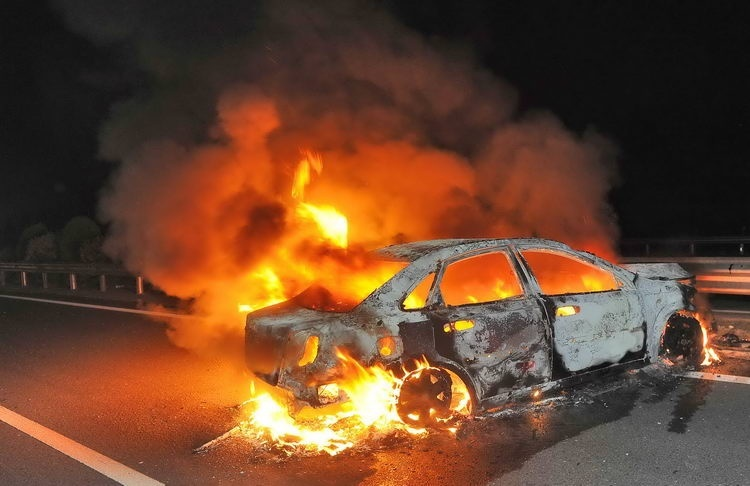fire: (229, 335, 470, 451), (231, 156, 366, 311)
